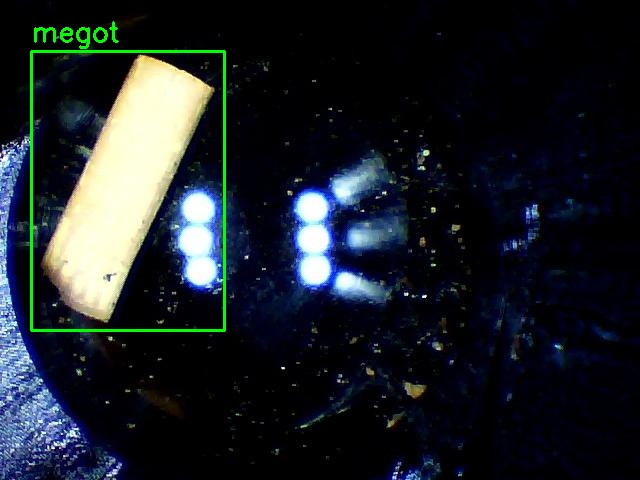megot: (31, 51, 224, 330)
